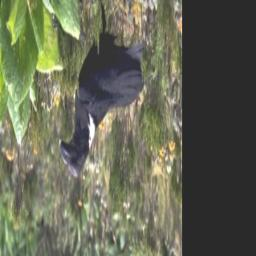Crow: (58, 0, 145, 180)
